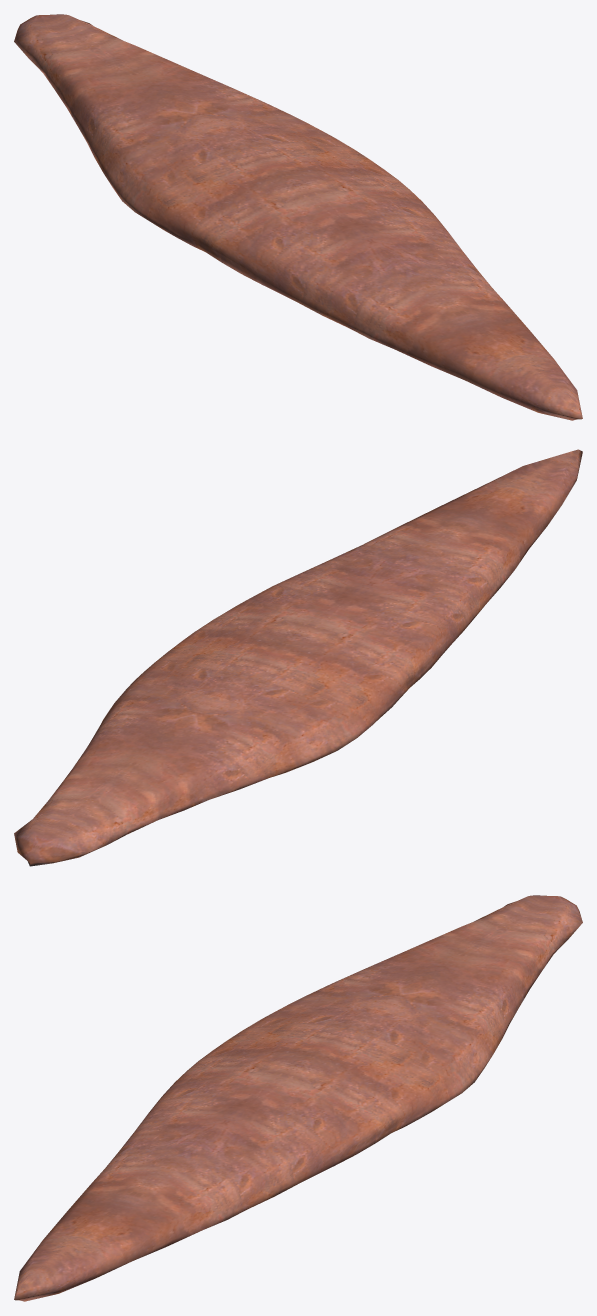
File: weightStoneTop.obj
3 renders of one model, top to bottom at view 1: azimuth 30°, elevation 25°; view 2: azimuth 150°, elevation 25°; view 3: azimuth 330°, elevation 25°, orthographic.
Parts seen in each view (by area): view 1: weightStoneTop; view 2: weightStoneTop; view 3: weightStoneTop.
Boxes of the visible parts, <box> form: weightStoneTop: <box>14,14,582,420</box>; weightStoneTop: <box>14,449,582,866</box>; weightStoneTop: <box>14,895,582,1301</box>.
Size of the model in its own units: 1.58 by 0.359 by 6.81.
